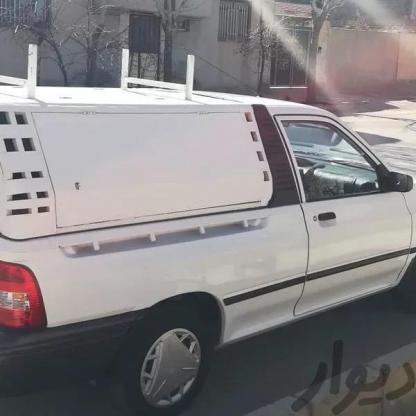Car: (0, 86, 416, 416)
